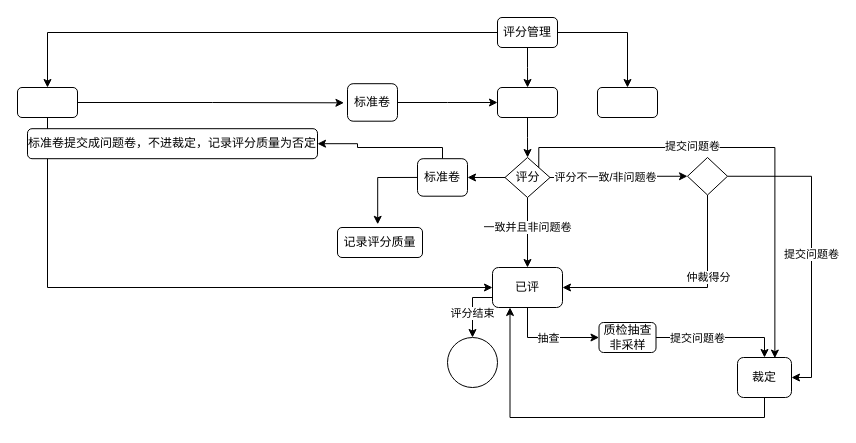
This 856x443 diagram has some shape labels left out. The centre of each missing label's shape, as x and y in pixels:
"仲裁" belongs at (x=707, y=175).
"正评" belongs at (x=527, y=102).
"确定成绩" belongs at (x=472, y=362).
"试评" belongs at (x=627, y=102).
"采样" belongs at (x=47, y=102).
